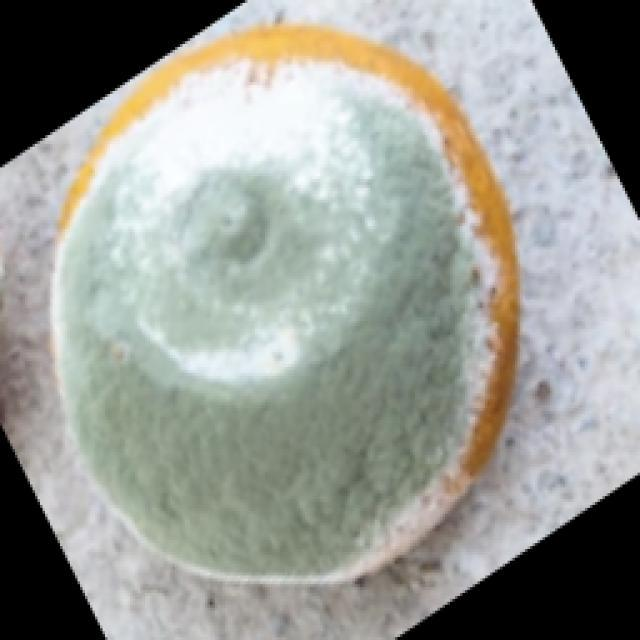sangat-busuk: (54, 66, 488, 582)
